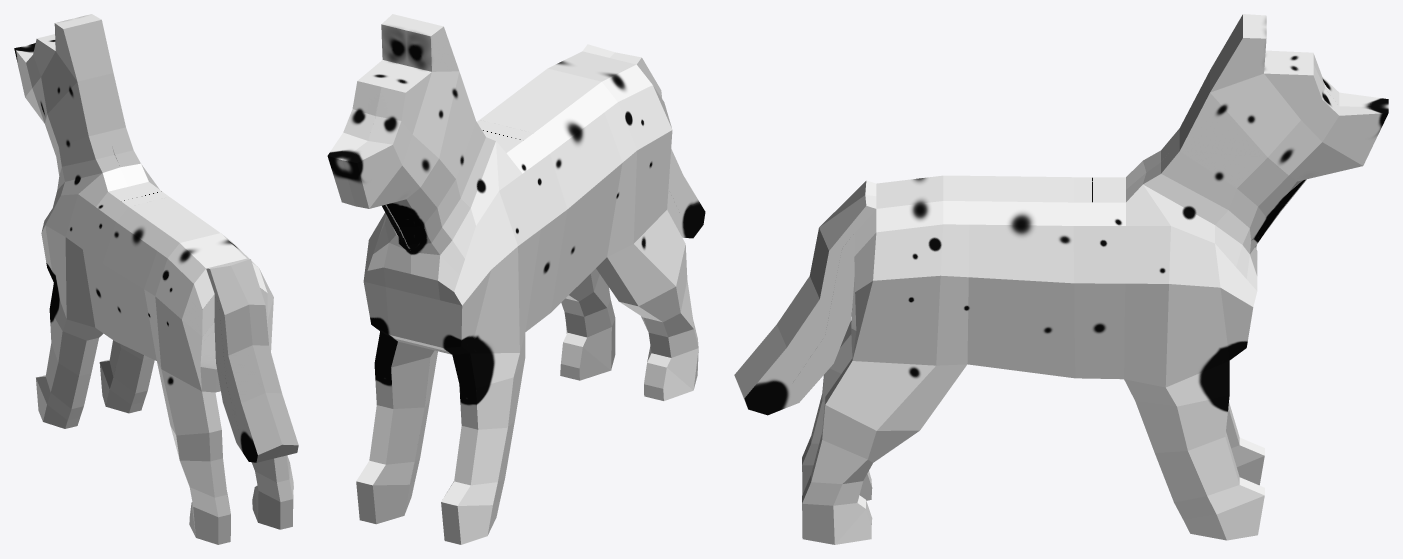
The model's file is dog.fbx.
3 views of the same model, side by side, from view 1: azimuth 30°, elevation 25°; view 2: azimuth 150°, elevation 25°; view 3: azimuth 270°, elevation 25° (orthographic). The views are drawn at different scales.
Parts seen in each view (by area): view 1: Plane; view 2: Plane; view 3: Plane.
Boxes of the visible parts, left/top/right/bottom form: Plane: left=14, top=14, right=298, bottom=544; Plane: left=327, top=14, right=705, bottom=544; Plane: left=734, top=14, right=1388, bottom=544.
Bounding box in the file's own units: 68.9 × 252 × 305.
